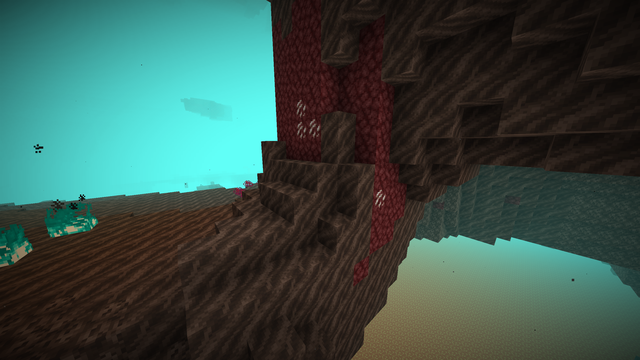quartz: (296, 102, 322, 140), (371, 189, 388, 209)
